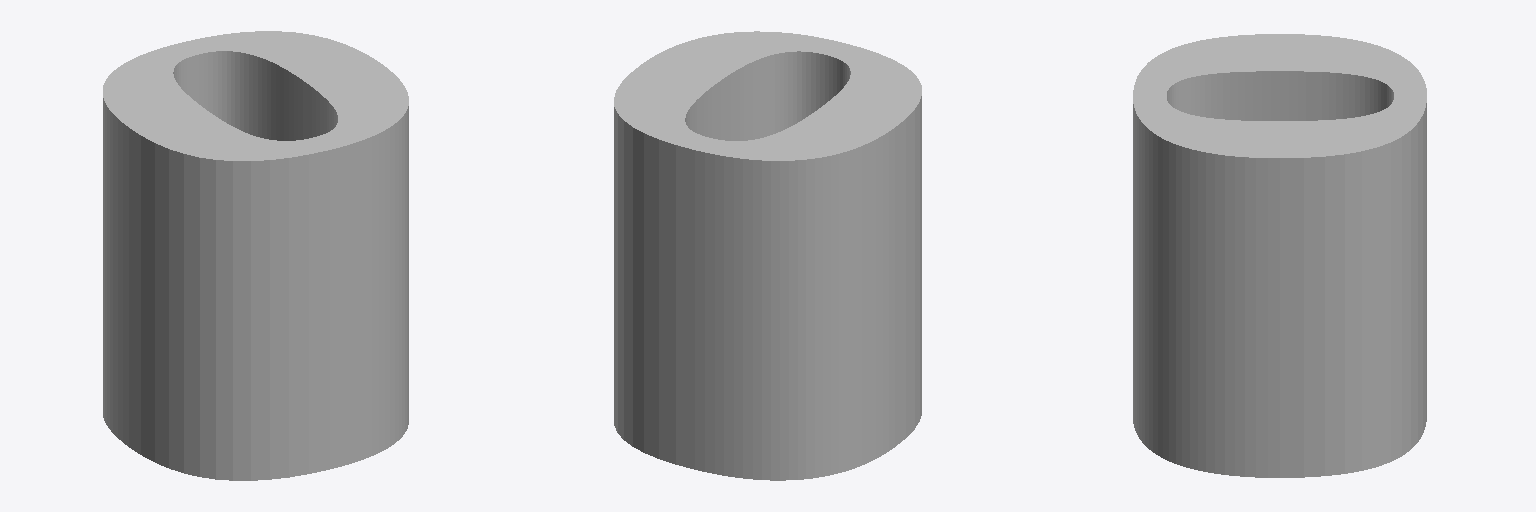
3 views of the same model, side by side, from view 1: azimuth 30°, elevation 25°; view 2: azimuth 150°, elevation 25°; view 3: azimuth 270°, elevation 25° (orthographic).
Parts seen in each view (by area): view 1: obj_0; view 2: obj_0; view 3: obj_0.
Boxes of the visible parts, x1,y1,x2,y2 form: obj_0: [103, 31, 408, 480]; obj_0: [614, 31, 921, 480]; obj_0: [1133, 34, 1426, 477].
Bounding box in the file's own units: 5 × 5.99 × 5.